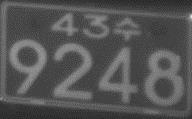2: (52, 42, 93, 102)
3: (82, 12, 110, 38)
4: (98, 46, 139, 105), (50, 11, 79, 37)
8: (142, 48, 186, 108)
9: (8, 38, 48, 96)
수: (113, 14, 142, 42)
